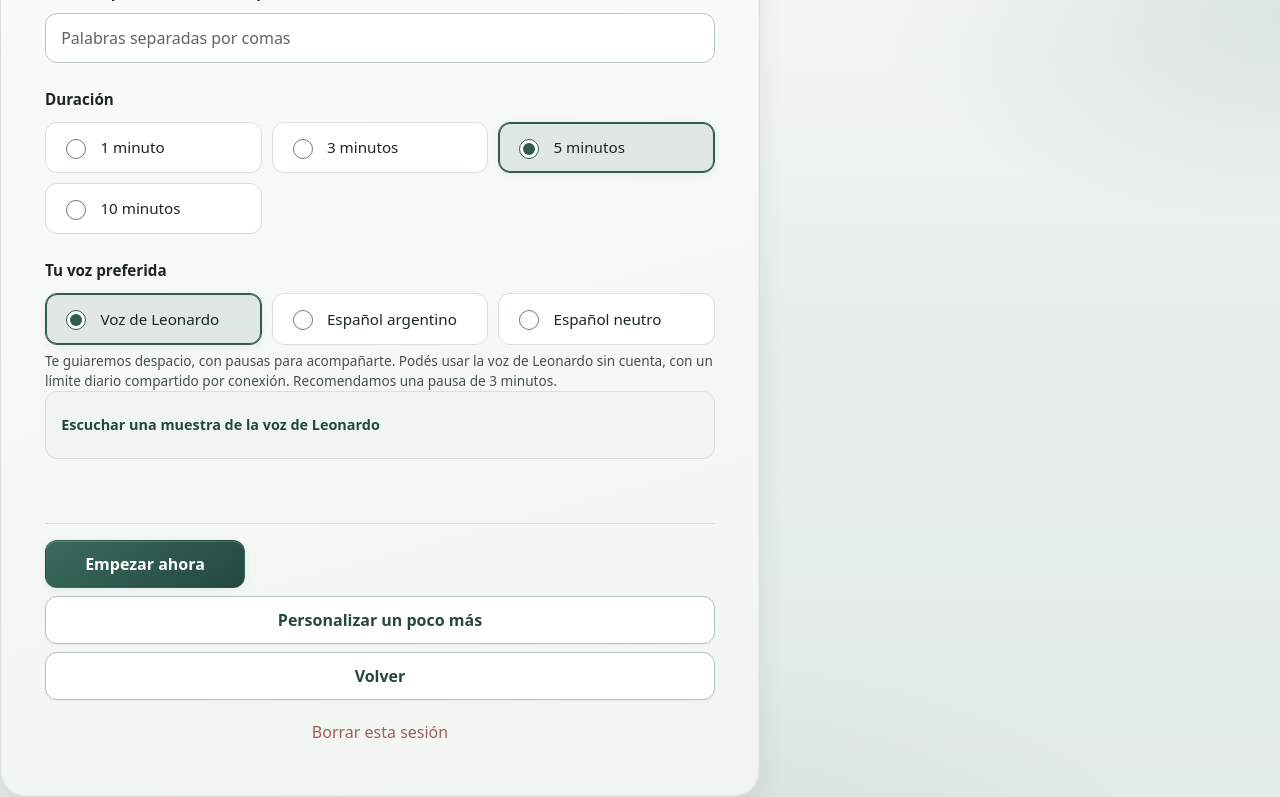
Test: preparación cancelable y visible › shows a retry message if the quick-start preparation fails
The image size is (1280, 797).
(page scrolled)
Click the button "Empezar ahora": coordinates (145, 564) [45,540,245,588]
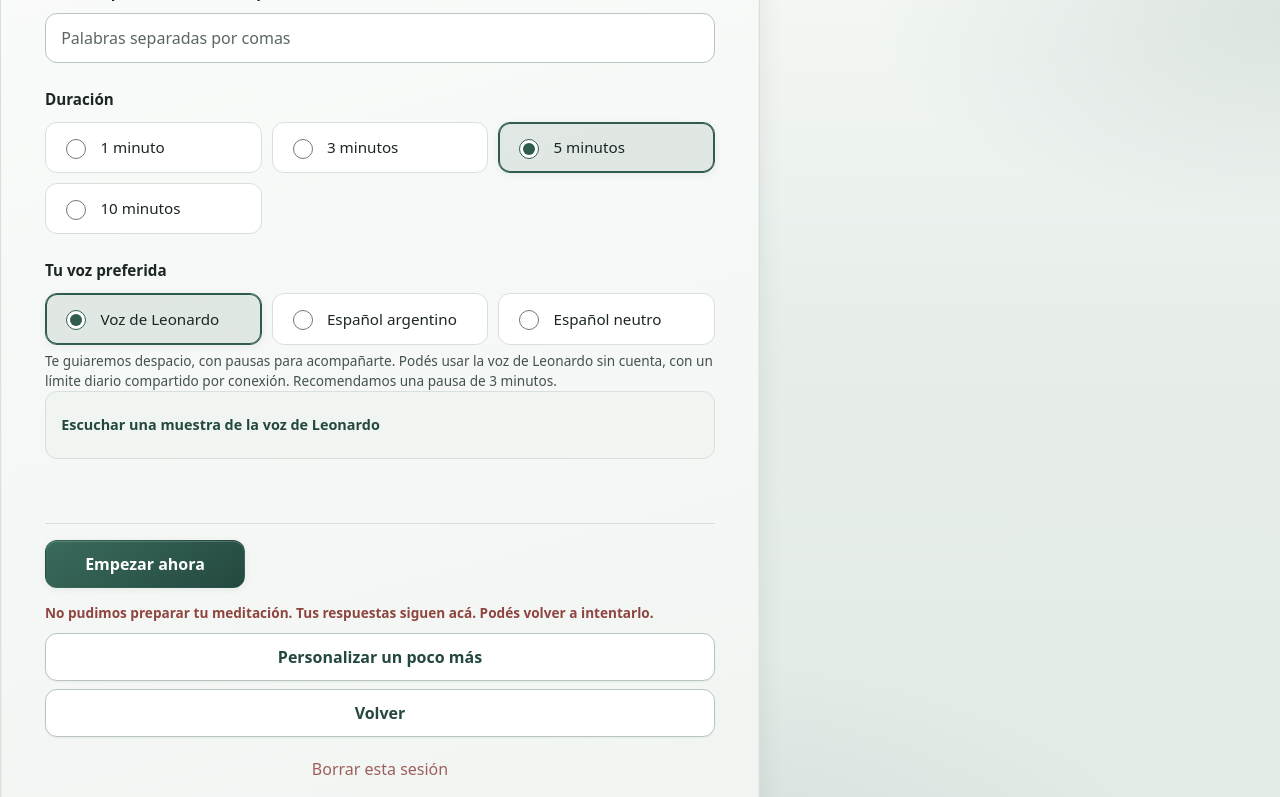
Now the message shows "podés volver a intentarlo", box [45,603,654,622]
